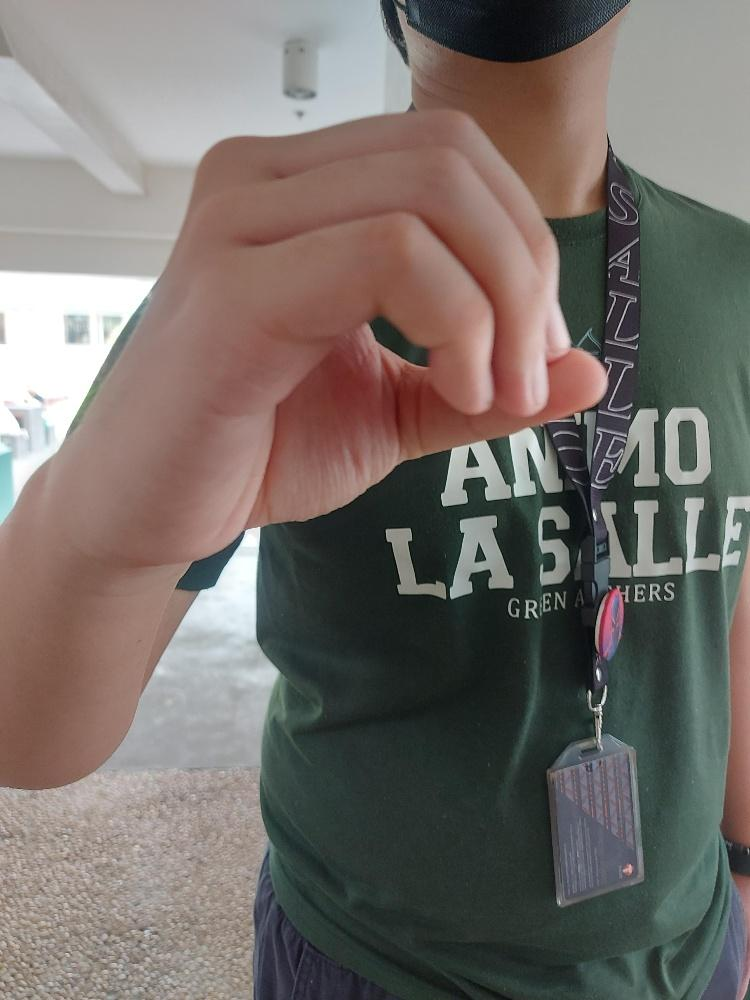o: (90, 105, 609, 563)
